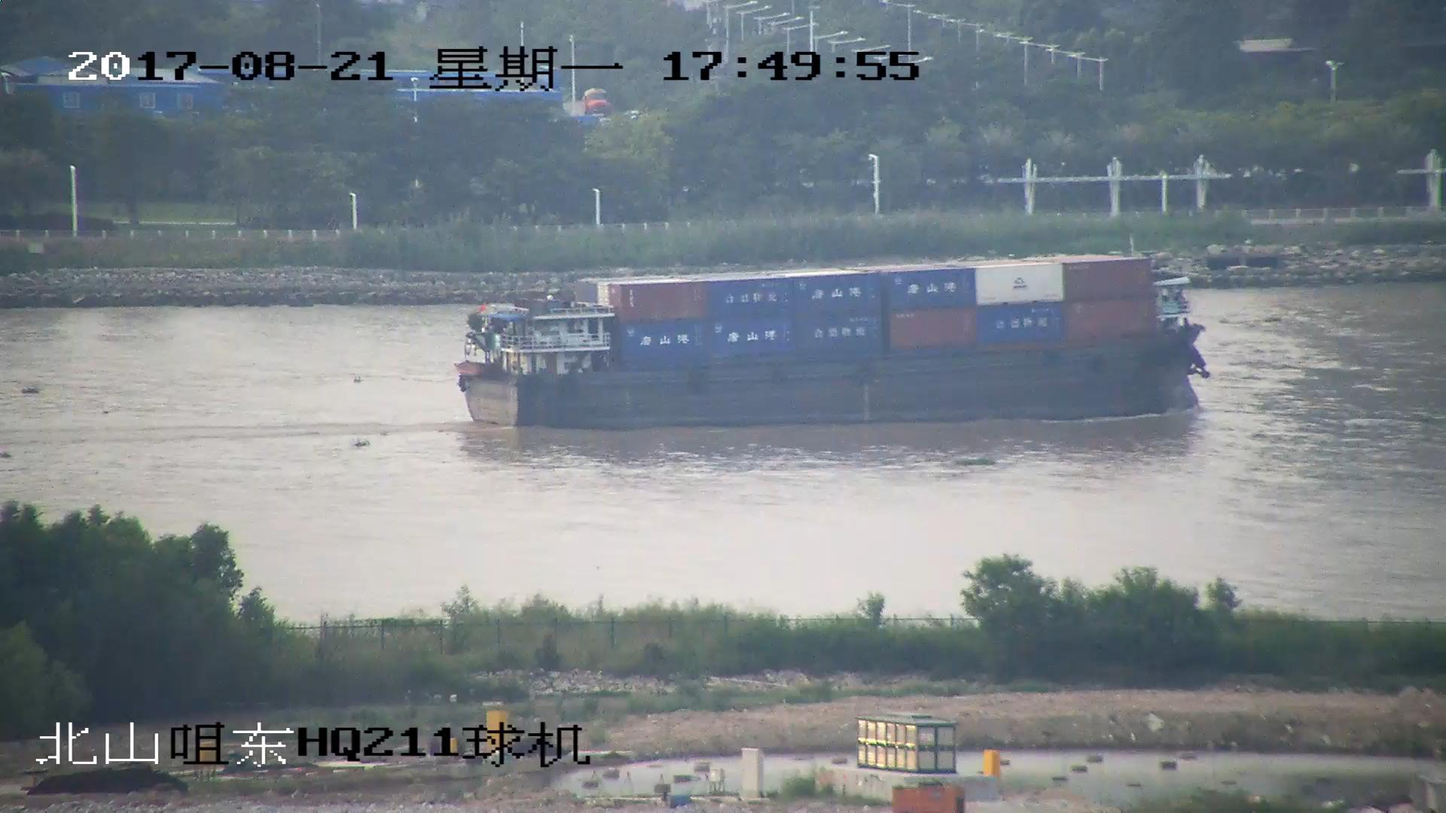container ship: (455, 253, 1205, 431)
